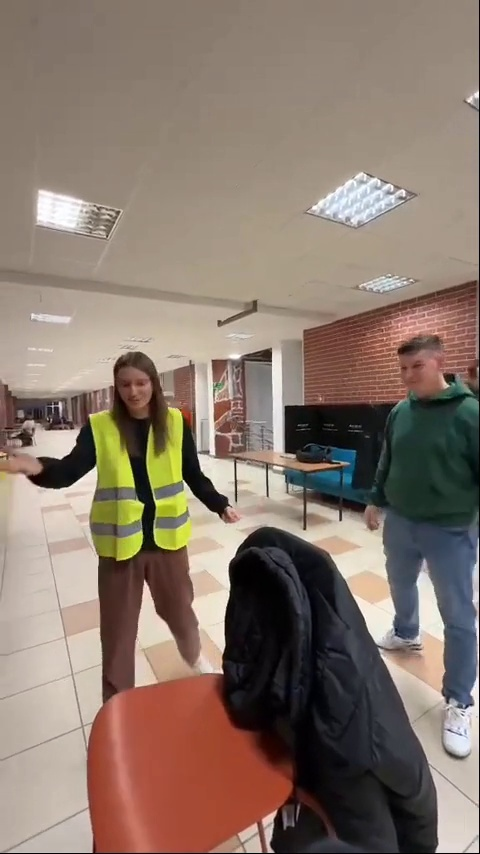no vest: (354, 333, 480, 758)
vest: (70, 344, 240, 702)
